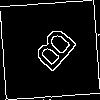B: (25, 25, 79, 81)
